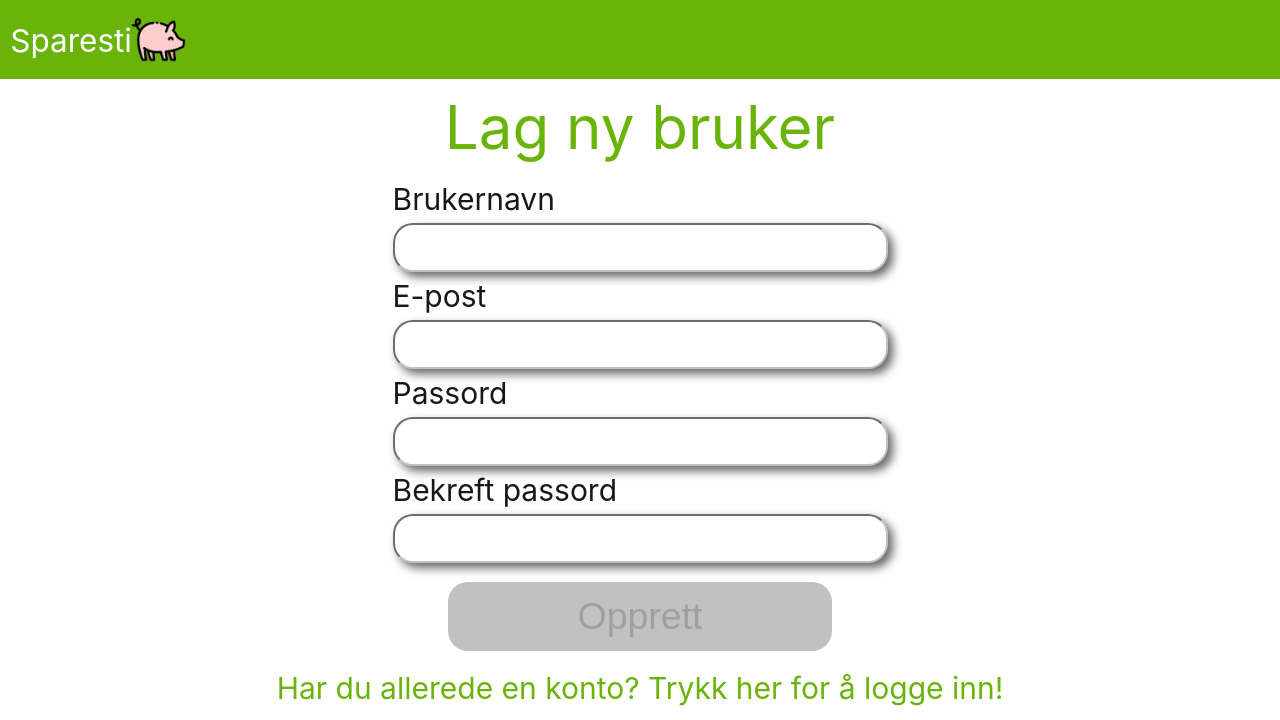
Test: Signup spec › Can signup
The width and height of the screenshot is (1280, 720).
Expected: the button with test id "SignupButton" is disabled, [448,582,832,651]
In the field with test id "NameInput": (641, 248) [393,223,888,272], type "TestingUser"
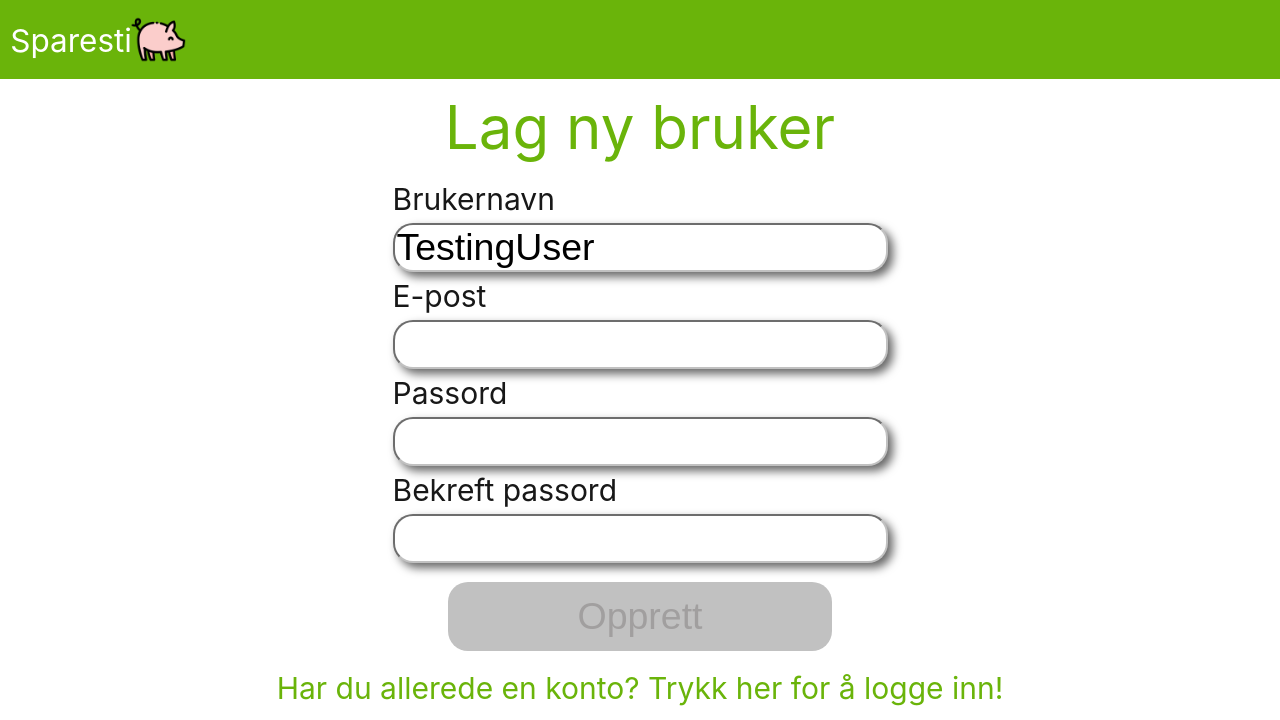
Expected: the button with test id "SignupButton" is disabled, [448,582,832,651]
In the field with test id "EmailInput": (641, 345) [393,320,888,369], type "Testing@Test.test"
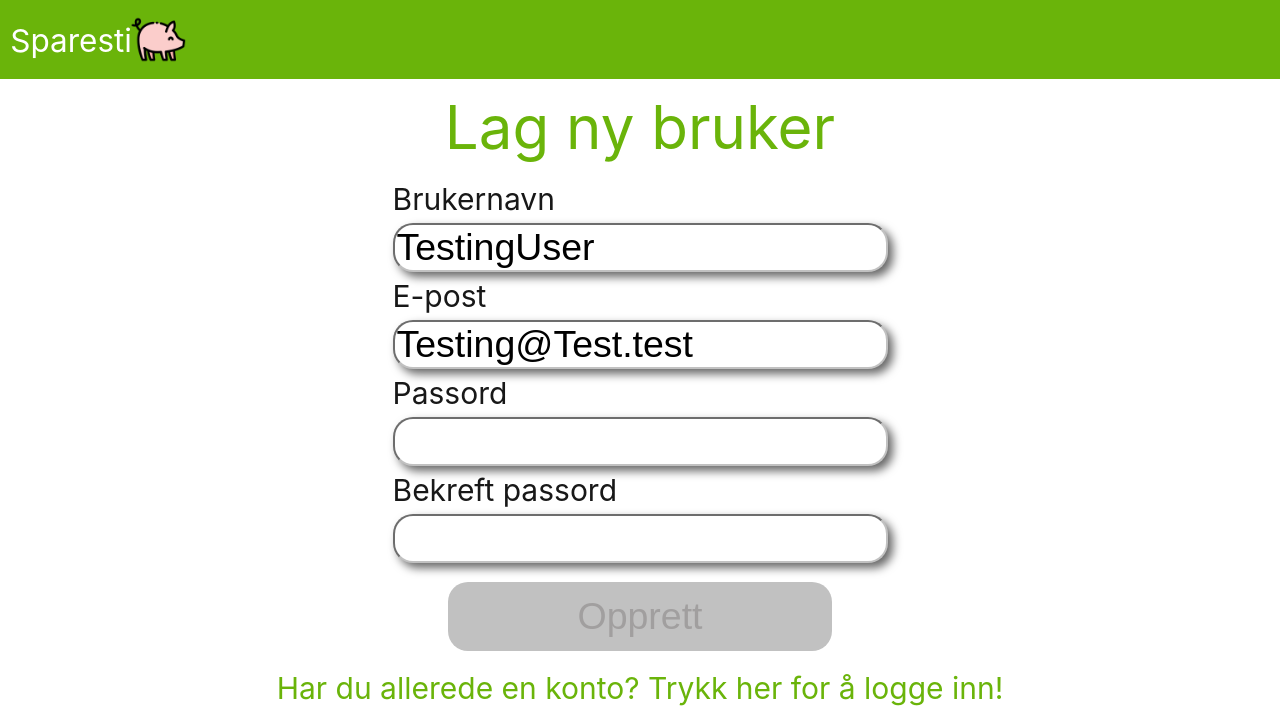
Expected: the button with test id "SignupButton" is disabled, [448,582,832,651]
In the password field with test id "PasswordInput": (641, 442) [393,417,888,466], type "ehswbfwowqw+pdiaas1"
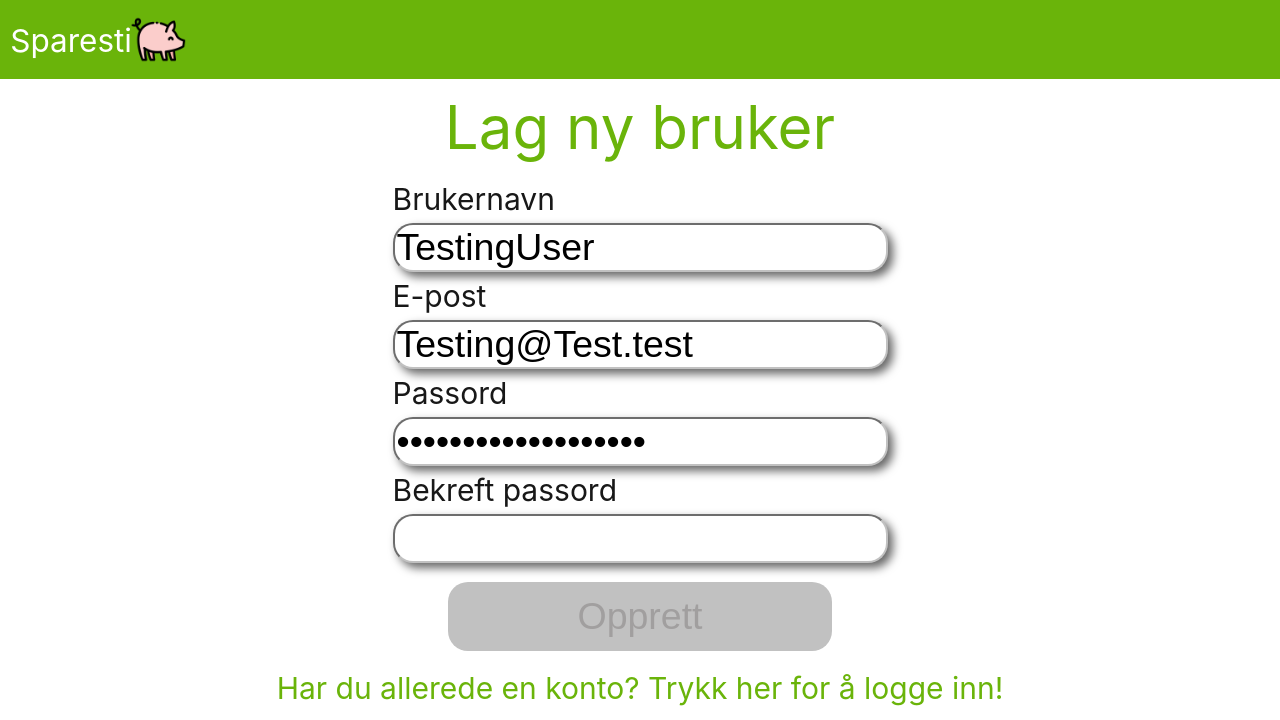
Expected: the button with test id "SignupButton" is disabled, [448,582,832,651]
In the password field with test id "ConfirmPasswordInput": (641, 539) [393,514,888,563], type "ehswbfwowqw+pdiaas1"
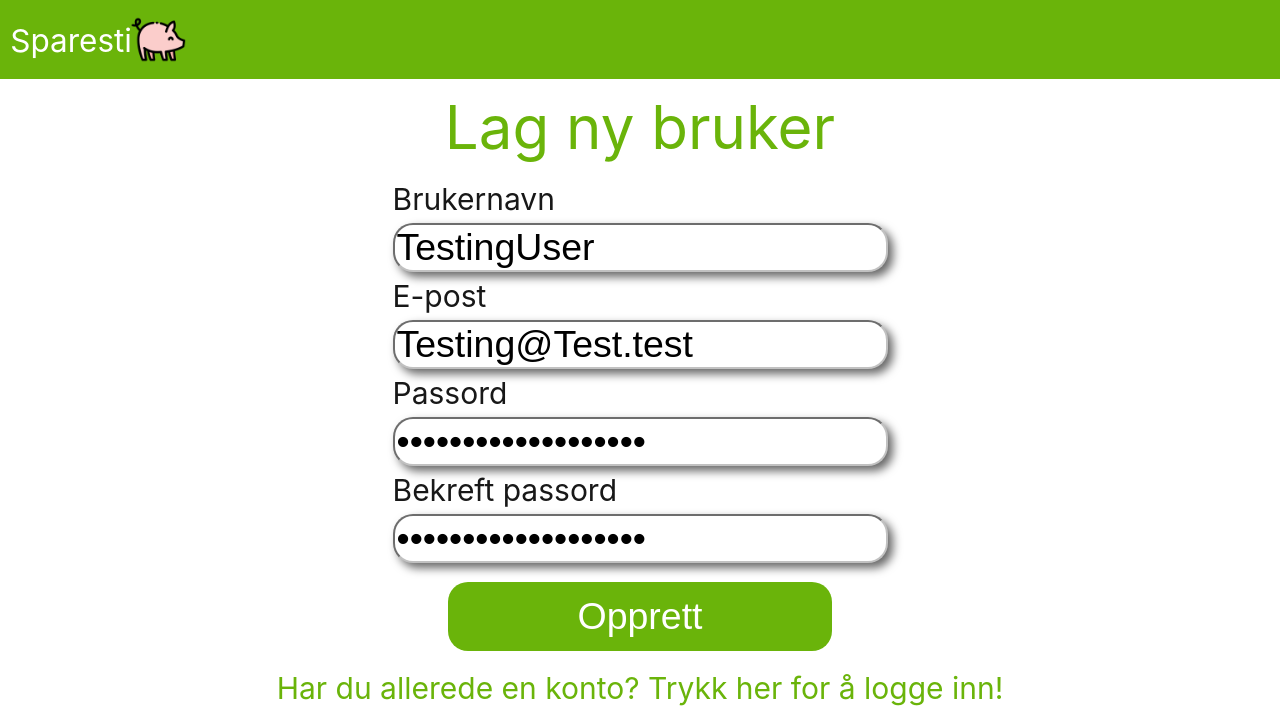
Result: the button with test id "SignupButton" is enabled at [448,582,832,651]
